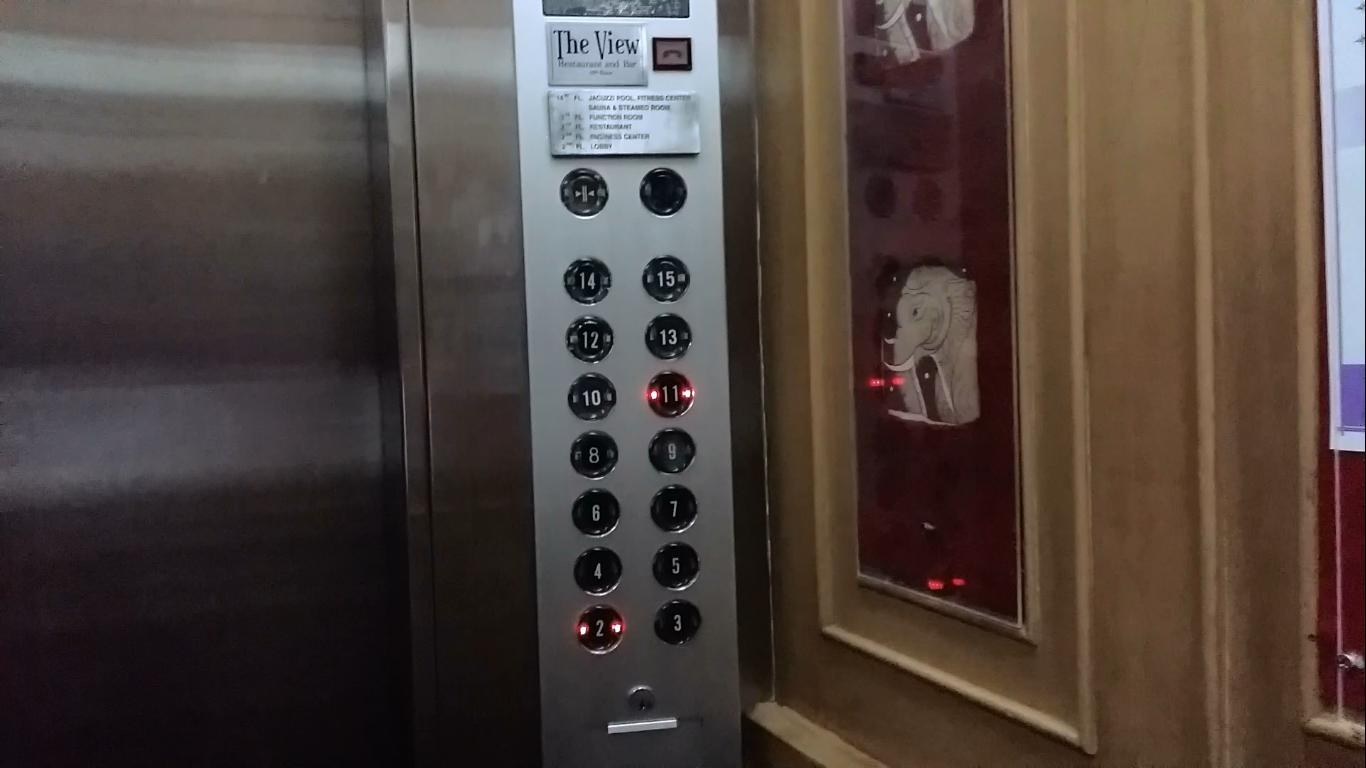10: (565, 371, 617, 420)
11: (644, 367, 693, 417)
12: (564, 313, 615, 363)
13: (644, 312, 691, 359)
14: (563, 256, 612, 304)
15: (641, 254, 689, 302)
2: (572, 600, 627, 655)
3: (649, 597, 702, 647)
4: (570, 544, 622, 595)
5: (651, 540, 702, 591)
6: (569, 485, 620, 537)
7: (649, 483, 698, 532)
8: (568, 427, 619, 479)
9: (644, 425, 698, 475)
call: (651, 35, 692, 70)
close: (557, 167, 609, 217)
keyhole: (622, 682, 657, 717)
unknown: (639, 165, 687, 216)
